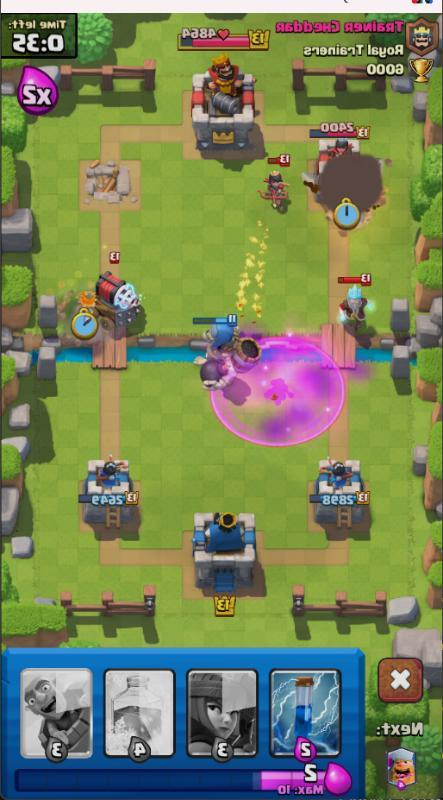enemy_ice_wizard: (331, 271, 380, 329)
enemy_princess: (253, 154, 300, 215)
enemy_sparky: (89, 261, 146, 323)
player_giant_skeleton: (187, 313, 261, 393)
rage: (209, 319, 350, 449)
